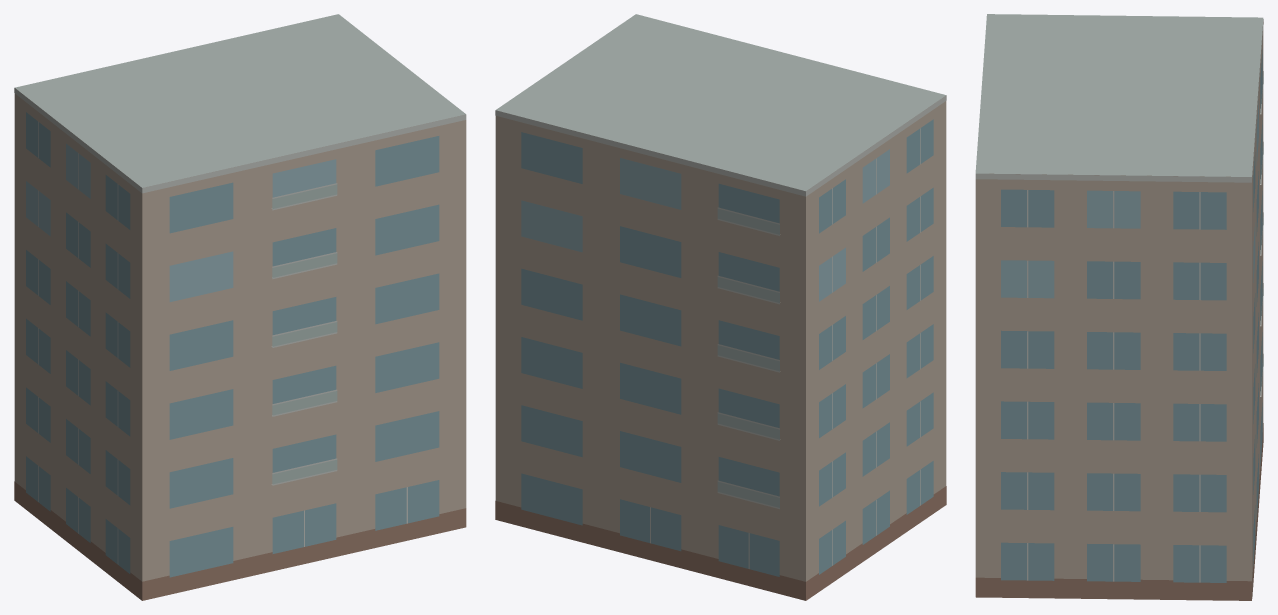
File: survey-upis-32925265.glb
The picture shows the model from 3 angles, left to right: view 1: azimuth 30°, elevation 25°; view 2: azimuth 150°, elevation 25°; view 3: azimuth 270°, elevation 25°; orthographic projection. The views are drawn at different scales.
Visible parts, largest first — view 1: survey-upis-32925265.tmp; view 2: survey-upis-32925265.tmp; view 3: survey-upis-32925265.tmp.
Boxes of the visible parts, x1,y1,x2,y2 form: survey-upis-32925265.tmp: (14,14,466,600); survey-upis-32925265.tmp: (495,14,946,600); survey-upis-32925265.tmp: (975,14,1263,600).
Bounding box in the file's own units: 15.11 × 18.3 × 11.28.
